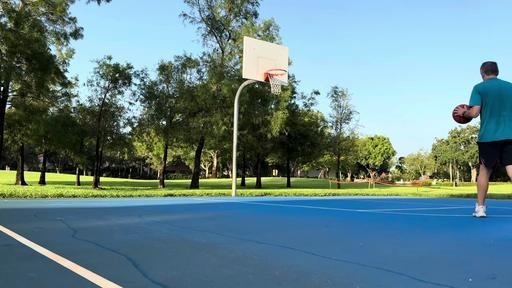ball: (452, 104, 473, 124)
human: (453, 62, 512, 217)
rim: (266, 70, 286, 92)
